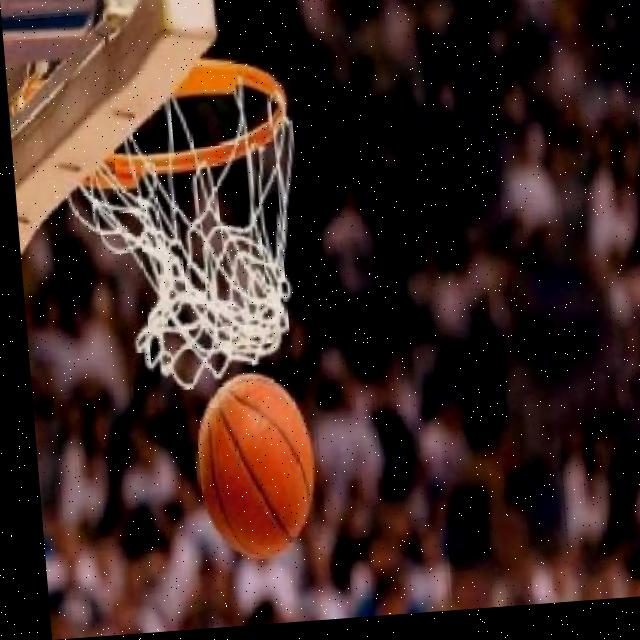basketball: (188, 367, 325, 570)
hoop: (53, 48, 314, 399)
